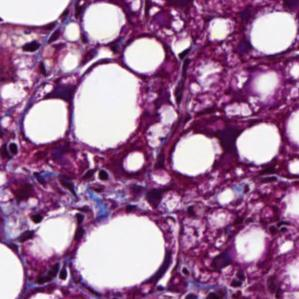inflammation: (30, 161, 114, 208), (177, 263, 254, 299)
